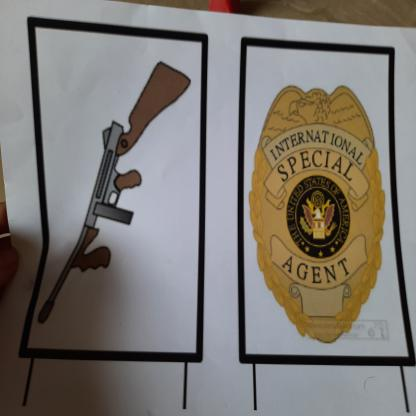Bootlegger: (36, 53, 196, 337)
G-man: (250, 80, 394, 343)
